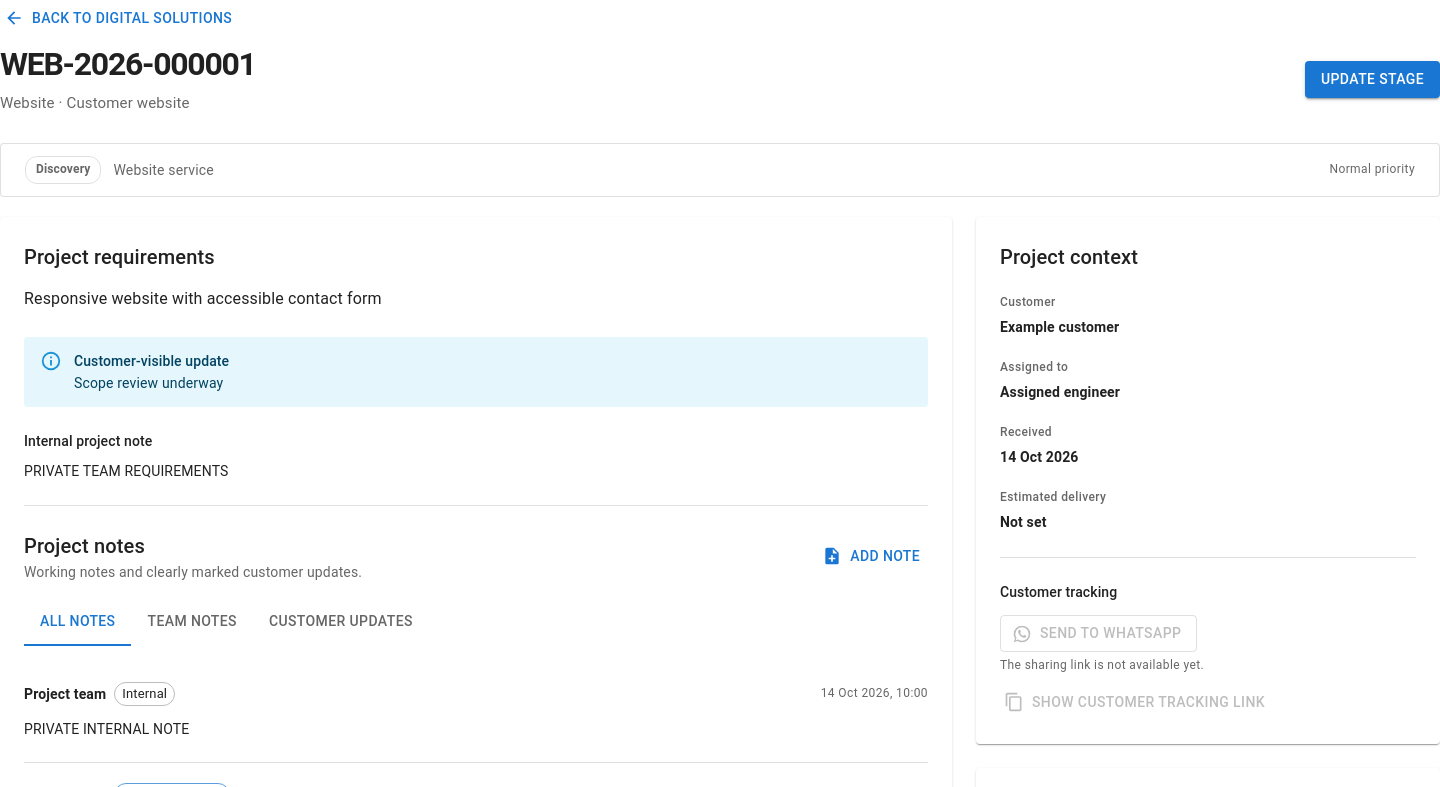
digital service workflow › limits technician stage changes to assigned tickets and omits invoice creation
Click the button "Update stage" at (1372, 80), box [1305,61,1439,98]
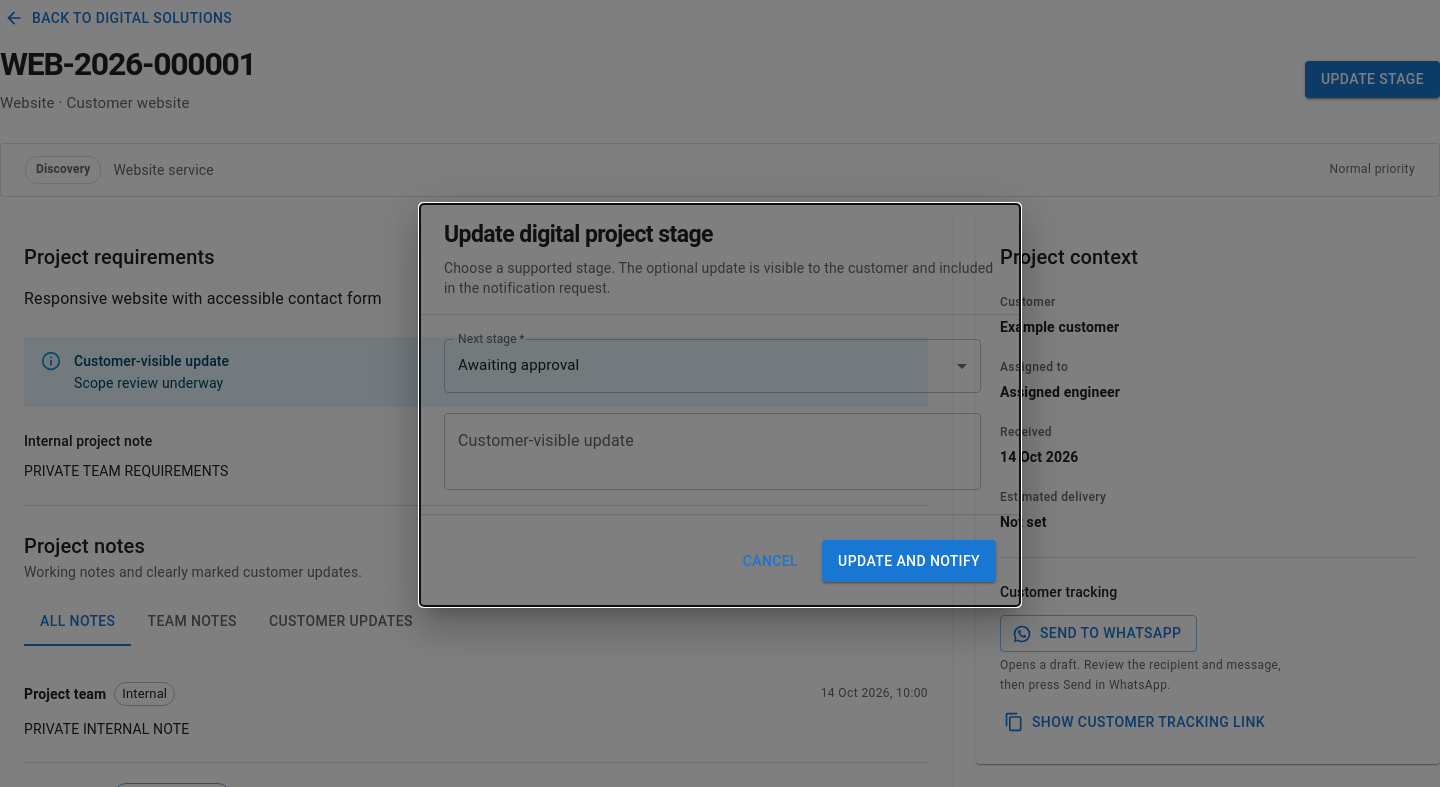
Press the mouse on the dropdown named "Next stage" at (519, 365), box [458,356,579,374]
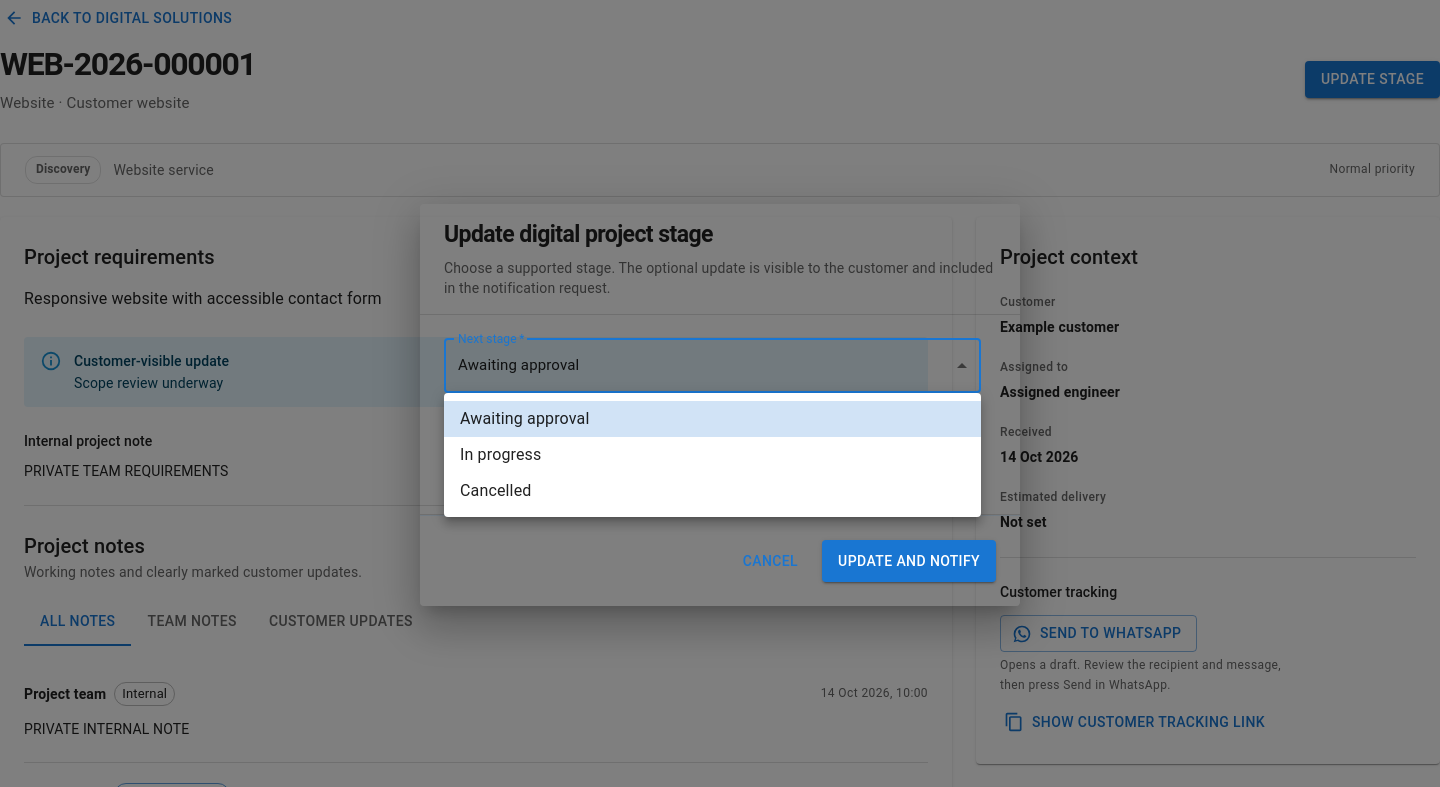
Expected: the option "Awaiting approval" is shown, [444,401,981,437]
Expected: the option "In progress" is shown, [460,445,542,464]
